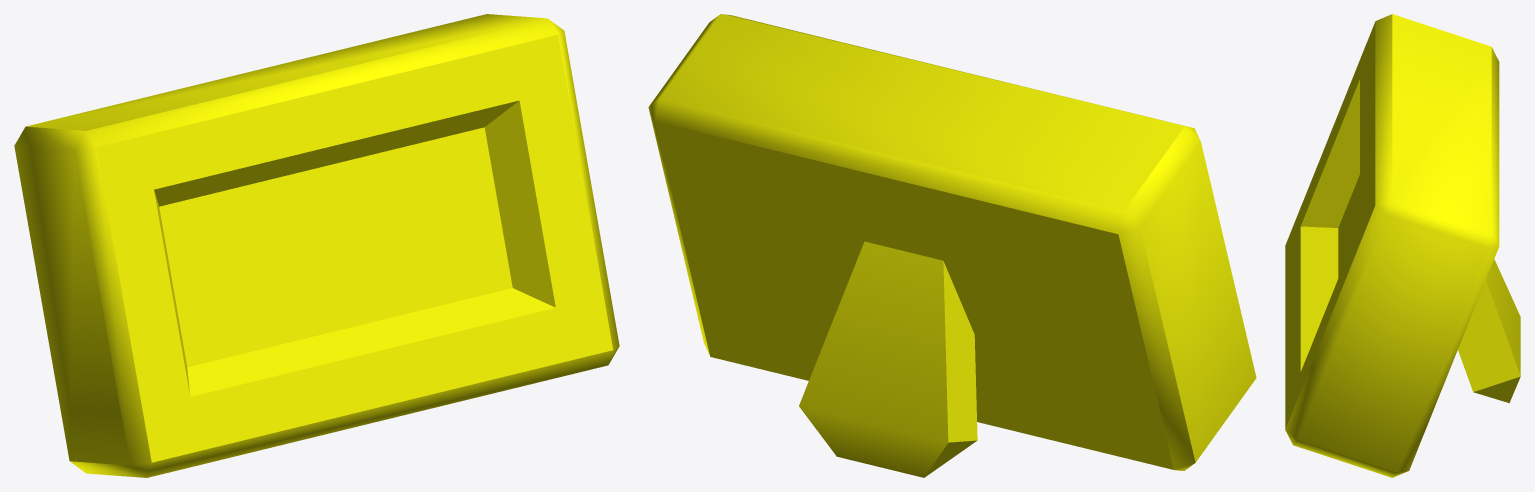
Rendered from kaykit-pictureframe-standing-b.glb.
The picture shows the model from 3 angles, left to right: view 1: azimuth 30°, elevation 25°; view 2: azimuth 150°, elevation 25°; view 3: azimuth 270°, elevation 25°; orthographic projection. The views are drawn at different scales.
Visible parts, largest first — view 1: pictureframe_standing_B; view 2: pictureframe_standing_B; view 3: pictureframe_standing_B.
Boxes of the visible parts, left/top/right/bottom form: pictureframe_standing_B: left=14, top=14, right=619, bottom=477; pictureframe_standing_B: left=648, top=14, right=1256, bottom=477; pictureframe_standing_B: left=1285, top=14, right=1520, bottom=477.
Size of the model in its own units: 0.7 by 0.4681 by 0.3571.
